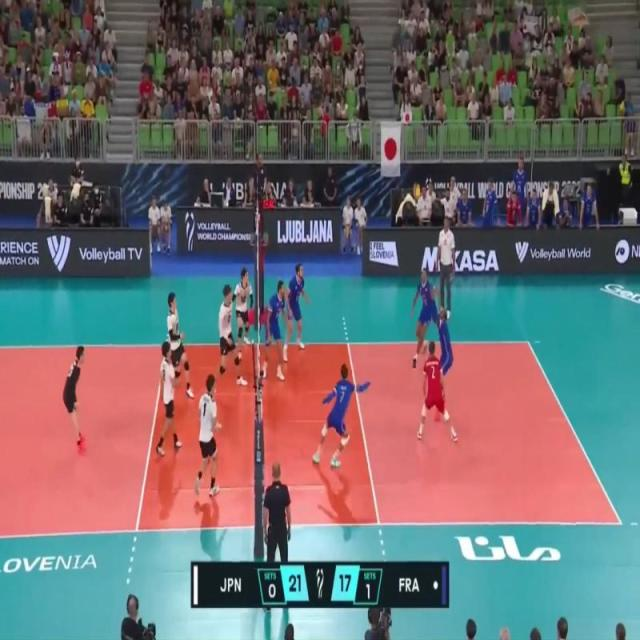volleyball: (412, 181, 422, 199)
